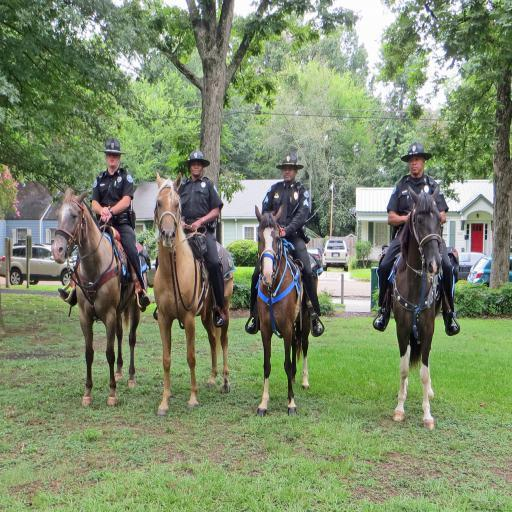horse: (50, 188, 148, 406), (154, 170, 234, 417), (390, 182, 444, 432), (252, 202, 308, 416)
